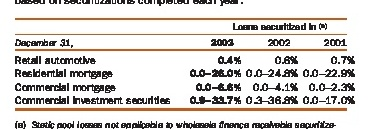table: (0, 0, 368, 129)
